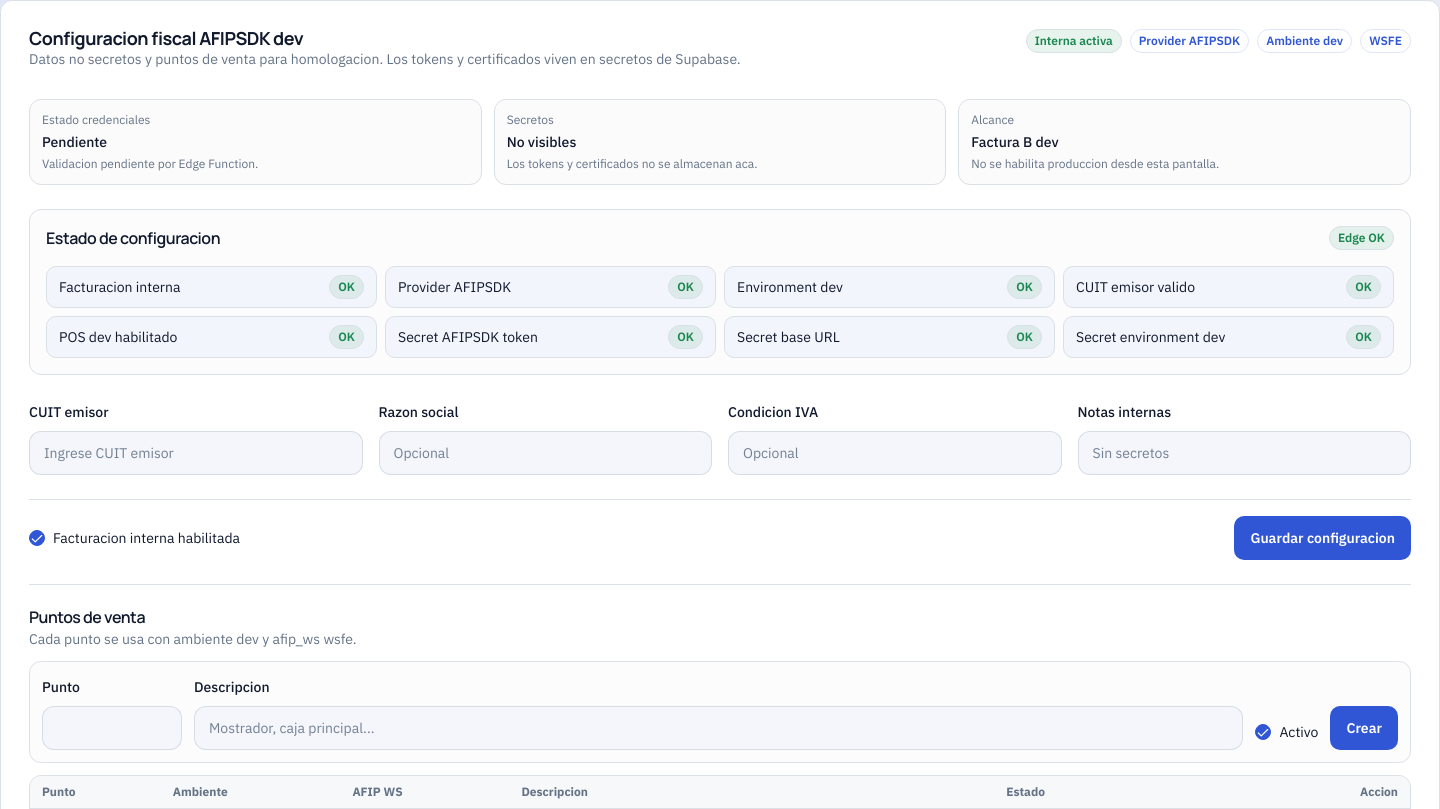
BillingFiscalSettingsSection › rejects invalid issuer CUIT before saving
The image size is (1440, 809).
Type "123" into the field labelled "CUIT emisor" at (196, 453), box [29,431,362,475]
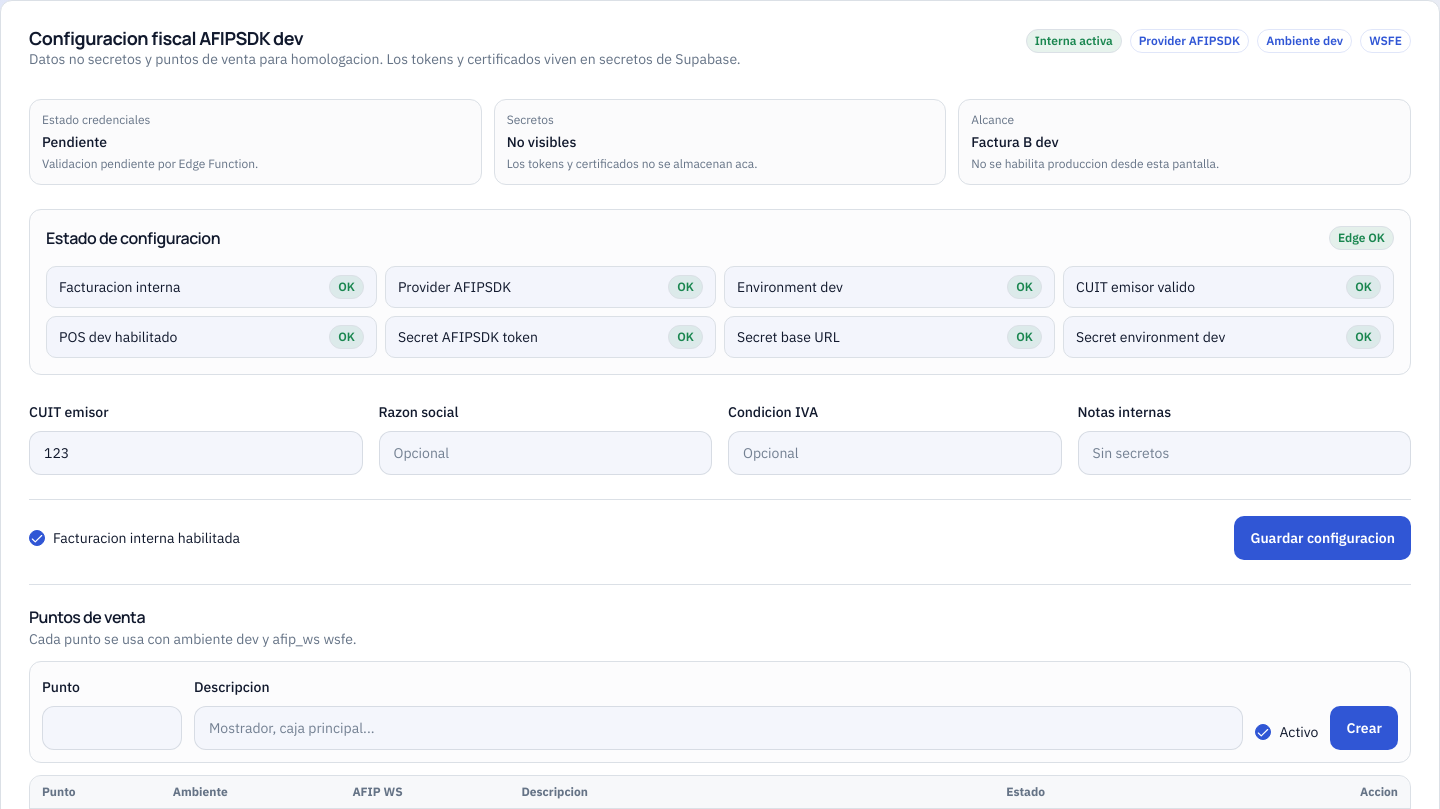
Click the button "Guardar configuracion" at (1323, 538), box [1234,516,1411,560]
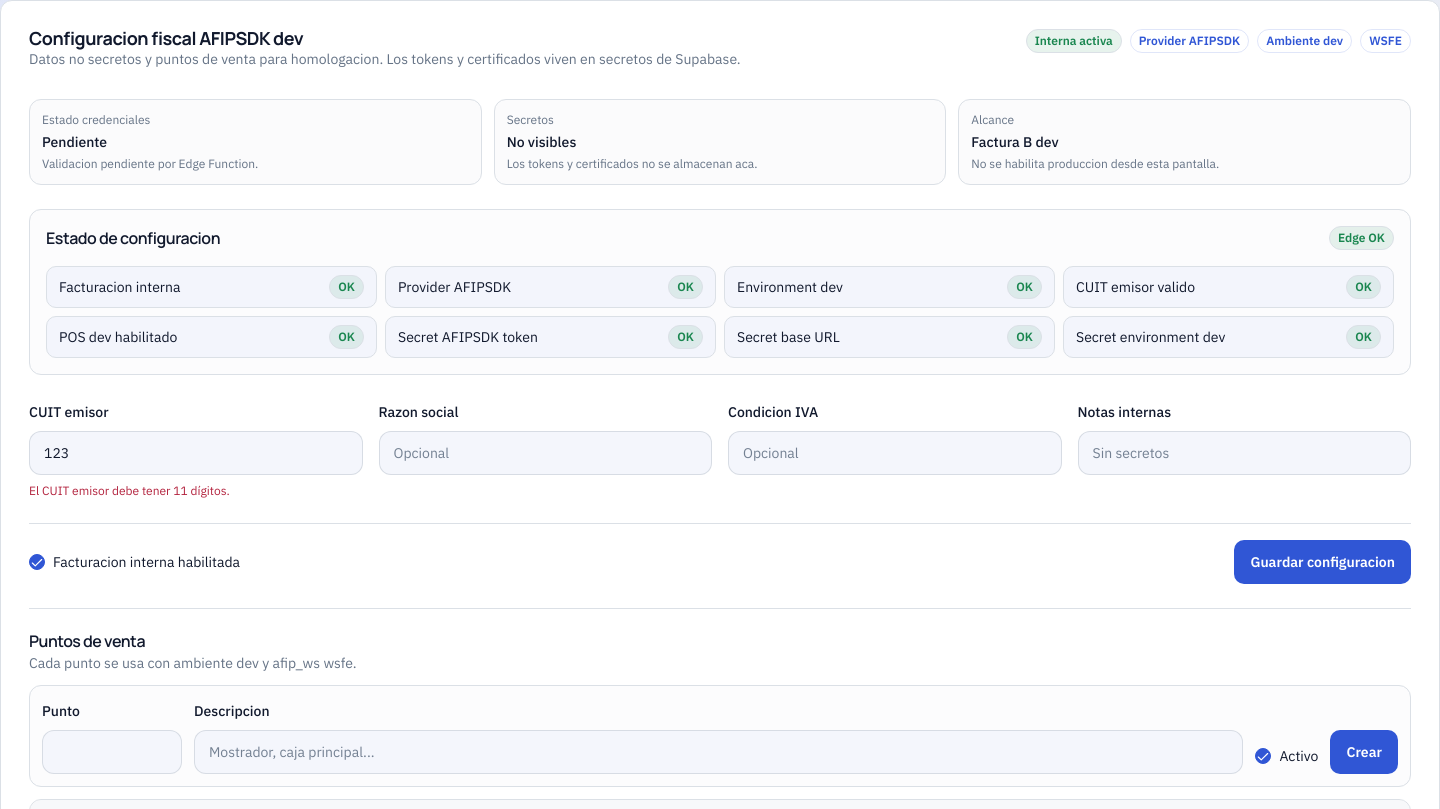
Now the text "El CUIT emisor debe tener 11 dígitos." is shown, box [29,483,230,498]
